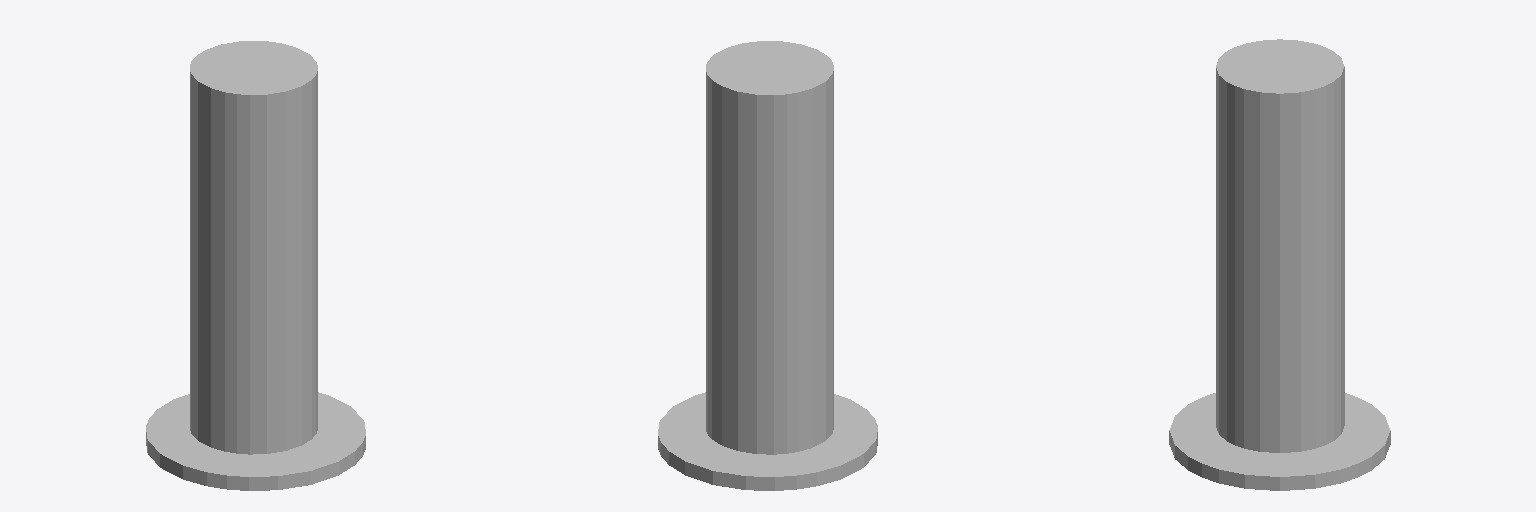
The model's file is Concept.obj.
The picture shows the model from 3 angles: view 1: azimuth 30°, elevation 25°; view 2: azimuth 150°, elevation 25°; view 3: azimuth 270°, elevation 25°; orthographic projection.
Parts seen in each view (by area): view 1: Part2, Part3, Part1; view 2: Part2, Part3, Part1; view 3: Part2, Part3, Part1.
Part boxes in pixels (x1,y1,x2,y2): Part2: (190, 41, 317, 437); Part3: (146, 392, 365, 490); Part1: (190, 414, 317, 454); Part2: (706, 41, 833, 437); Part3: (658, 392, 877, 490); Part1: (706, 413, 833, 454); Part2: (1216, 39, 1344, 436); Part3: (1169, 393, 1390, 490); Part1: (1216, 409, 1344, 452).
Bounding box in the file's own units: 5.73 × 10.78 × 5.73.